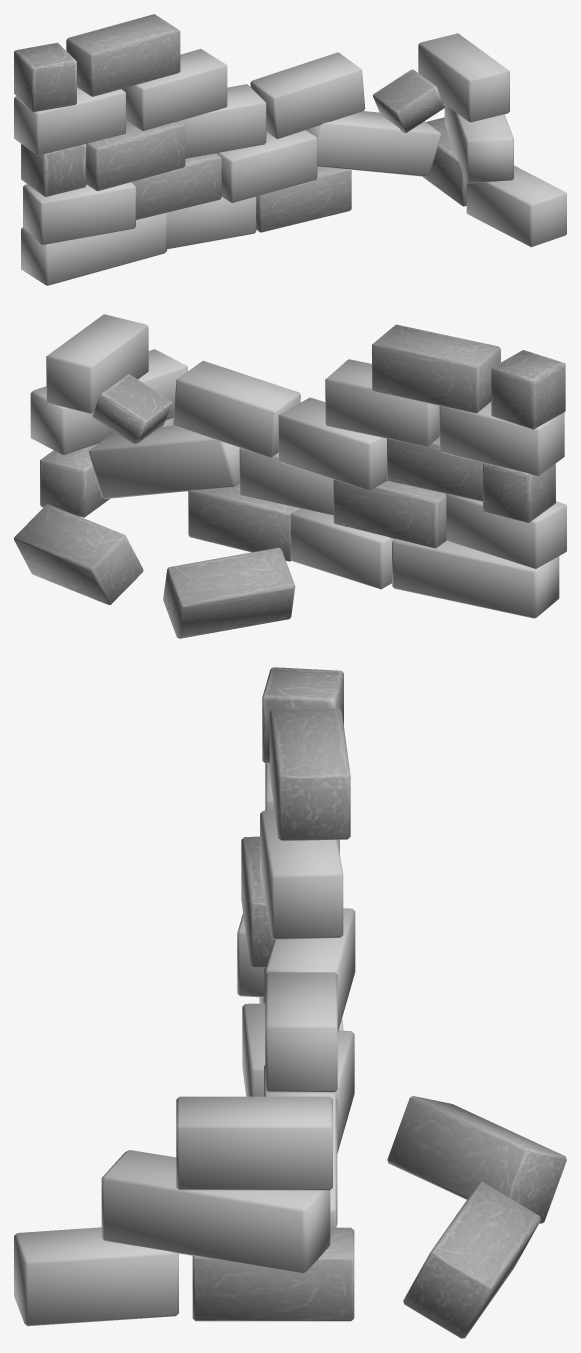
The model's file is Wall_Big.fbx.
The picture shows the model from 3 angles, top to bottom: view 1: azimuth 30°, elevation 25°; view 2: azimuth 150°, elevation 25°; view 3: azimuth 270°, elevation 25°; orthographic projection. The views are drawn at different scales.
Parts seen in each view (by area): view 1: Brick#2.028, Brick#1.048, Brick#1.042, Brick#1.029, Brick#1.051, Brick#1.049, Brick#1.044, Brick#1.047, Brick#1.045, Brick#1.043, Brick#2.026, Brick#1.046 (+8 smaller); view 2: Brick#2.031, Brick#1.029, Brick#2.028, Brick#1.042, Brick#2.030, Brick#1.048, Brick#1.051, Brick#1.046, Brick#1.045, Brick#1.047, Brick#2.025, Brick#1.044 (+9 smaller); view 3: Brick#1.050, Brick#1.051, Brick#1.049, Brick#2.031, Brick#2.030, Brick#2.029, Brick#2.028, Brick#1.048, Brick#1.047, Brick#1.046, Brick#3.027, Brick#2.026 (+4 smaller).
Part boxes in pixels (x1,y1,x2,y2): Brick#2.028: (66,14,180,96); Brick#1.048: (250,52,365,139); Brick#1.042: (306,111,441,176); Brick#1.029: (21,212,166,285); Brick#1.051: (418,33,509,122); Brick#1.049: (466,165,566,247); Brick#1.044: (23,182,135,245); Brick#1.047: (121,49,227,130); Brick#1.045: (14,87,125,155); Brick#1.043: (216,130,317,203); Brick#2.026: (86,121,185,191); Brick#1.046: (179,84,266,158); Brick#2.031: (163,547,295,638); Brick#1.029: (392,539,559,618); Brick#2.028: (372,324,500,413); Brick#1.042: (89,425,240,498); Brick#2.030: (14,504,143,604); Brick#1.048: (173,360,300,457); Brick#1.051: (46,314,148,413); Brick#1.046: (278,397,387,490); Brick#1.045: (439,402,564,475); Brick#1.047: (325,359,439,446); Brick#2.025: (333,479,446,548); Brick#1.044: (445,494,566,568); Brick#1.050: (101,1150,330,1273); Brick#1.051: (176,1096,332,1190); Brick#1.049: (14,1227,178,1326); Brick#2.031: (387,1096,566,1223); Brick#2.030: (403,1182,540,1338); Brick#2.029: (192,1227,354,1321); Brick#2.028: (269,708,350,840); Brick#1.048: (265,972,337,1092); Brick#1.047: (260,810,343,939); Brick#1.046: (265,908,355,1032); Brick#3.027: (262,667,343,763); Brick#2.026: (241,836,274,968).
Bounding box in the file's own units: 2255 × 1124 × 1528.
